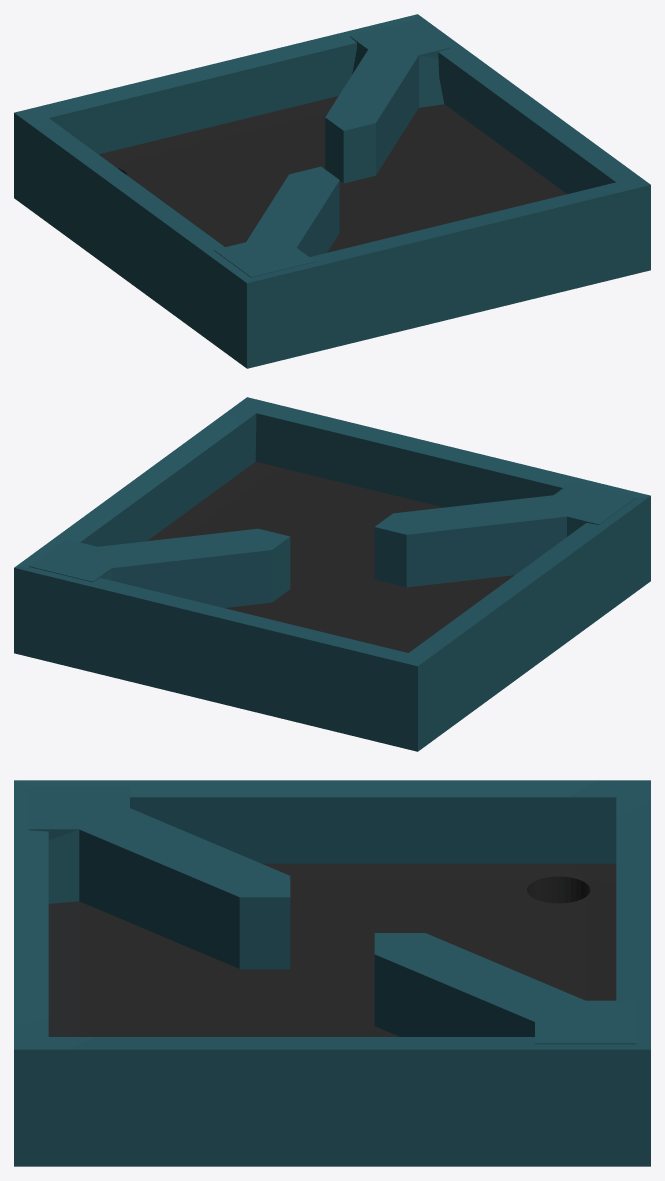
Rendered from maze_hole_big_wall.fbx.
3 renders of one model, top to bottom at view 1: azimuth 30°, elevation 25°; view 2: azimuth 150°, elevation 25°; view 3: azimuth 270°, elevation 25°, orthographic. The views are drawn at different scales.
Parts seen in each view (by area): view 1: maze_hole.001; view 2: maze_hole.001; view 3: maze_hole.001.
Boxes of the visible parts, box(x1,y1,x2,y2) form: maze_hole.001: box(14, 14, 650, 368); maze_hole.001: box(14, 397, 650, 751); maze_hole.001: box(14, 780, 650, 1166).
Size of the model in its own units: 50 by 10.12 by 50.
